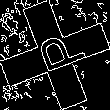P_W: (25, 29, 85, 81)
